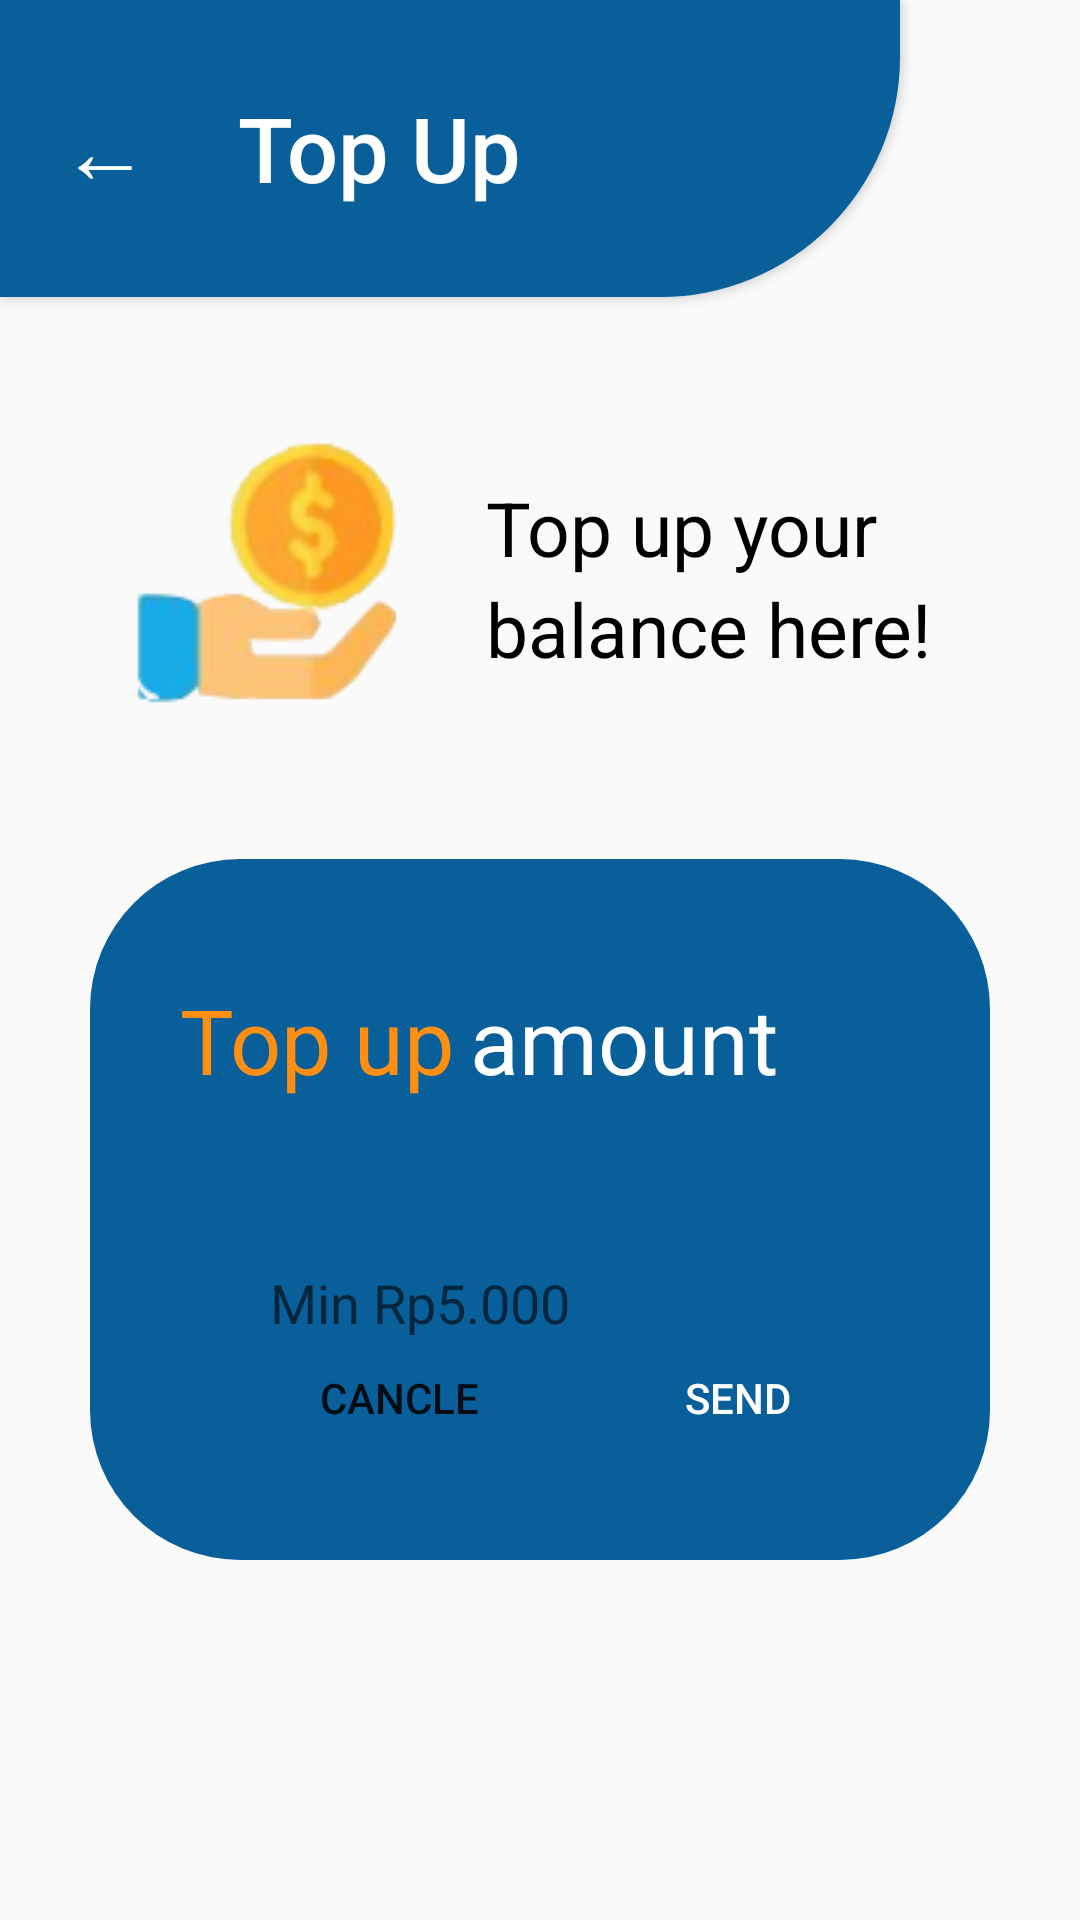

Icon click points for this 1080×1920 phone screenshot, format point (x, y):
tangan duit: point (267, 573)
